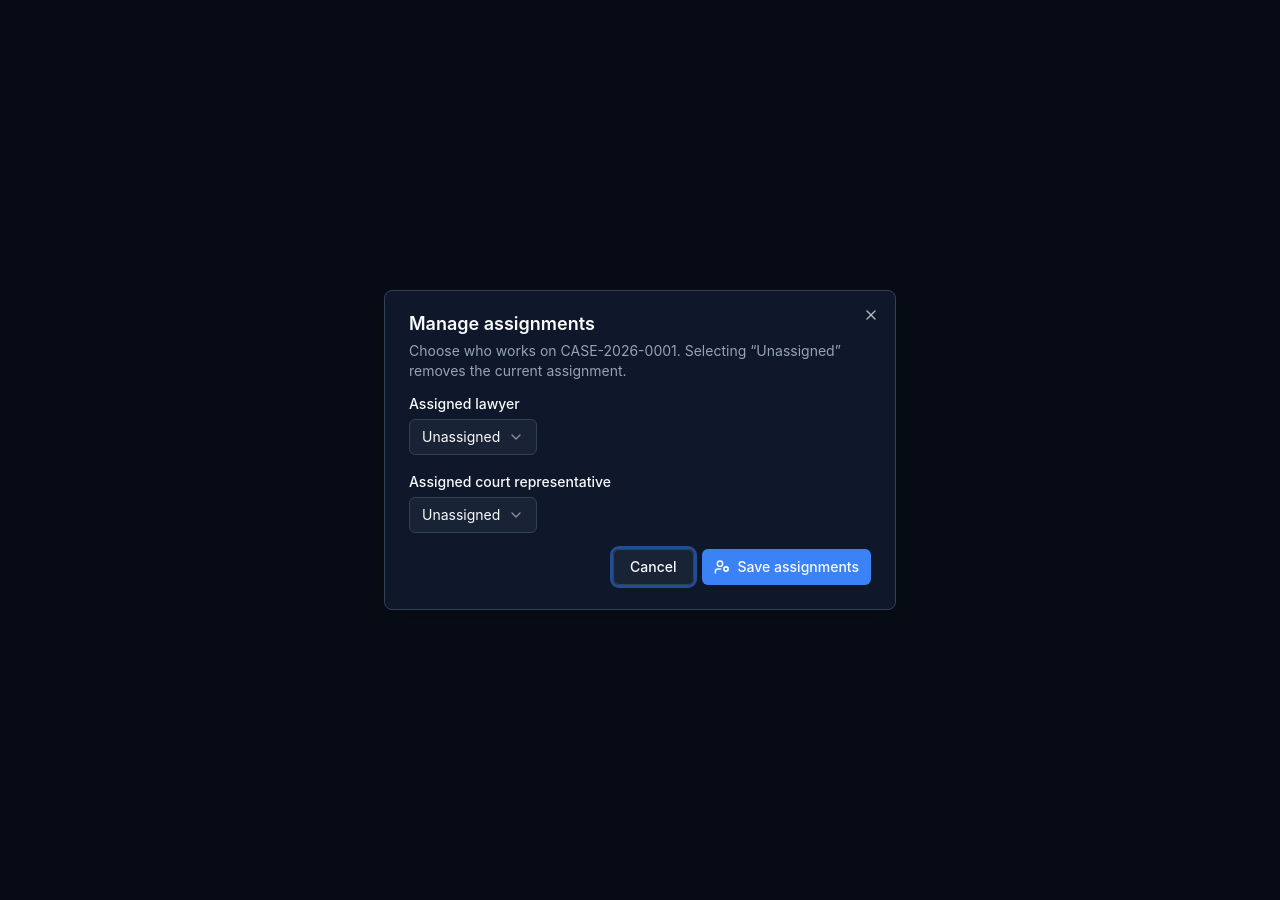
Test: AssignCaseDialog › surfaces a rejected assignment
The width and height of the screenshot is (1280, 900).
Step 1. Click the dropdown named "Assigned lawyer" → click(473, 437), box [409,419,537,455]
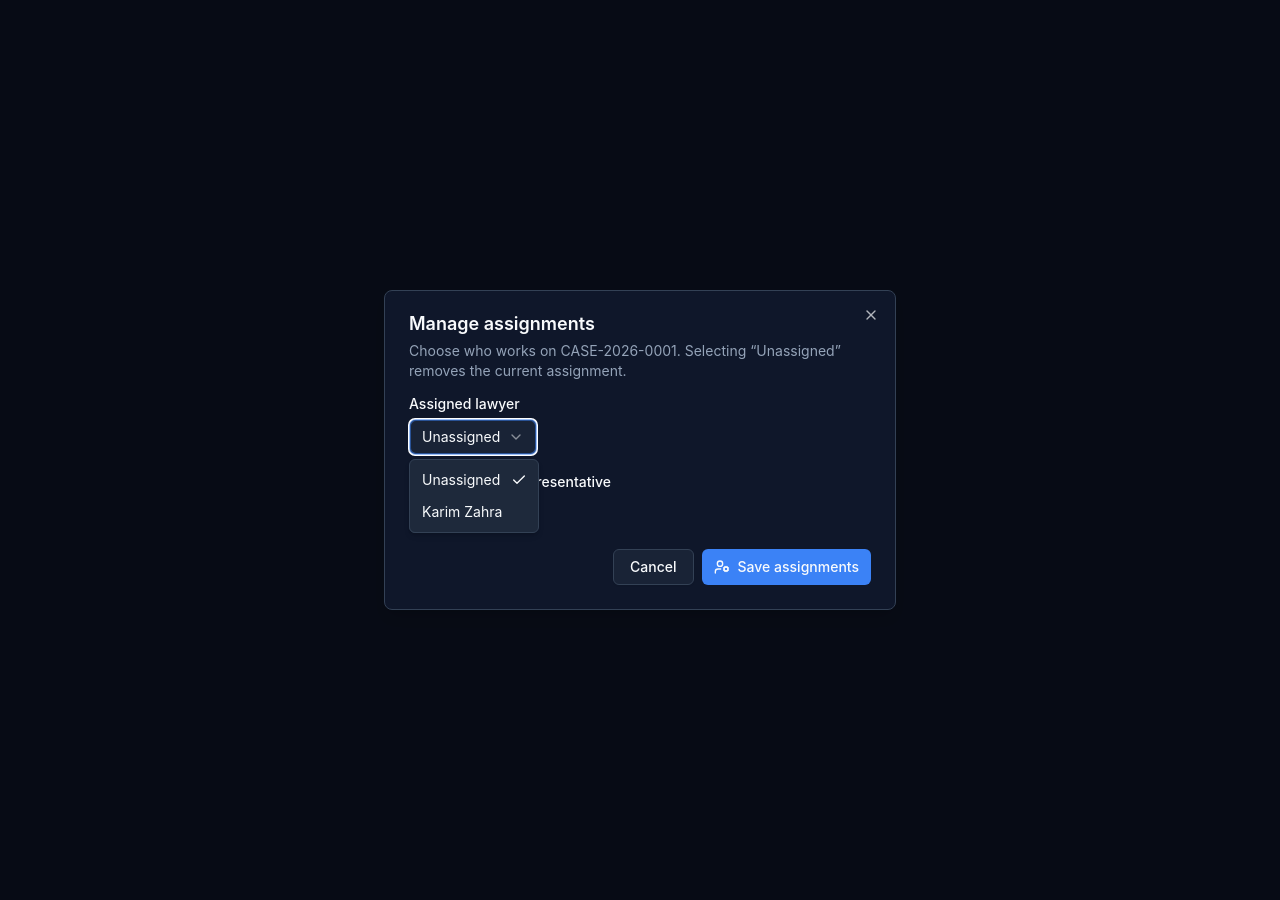
Step 2. Click the option "Karim Zahra" → click(462, 512), box [422,503,502,520]
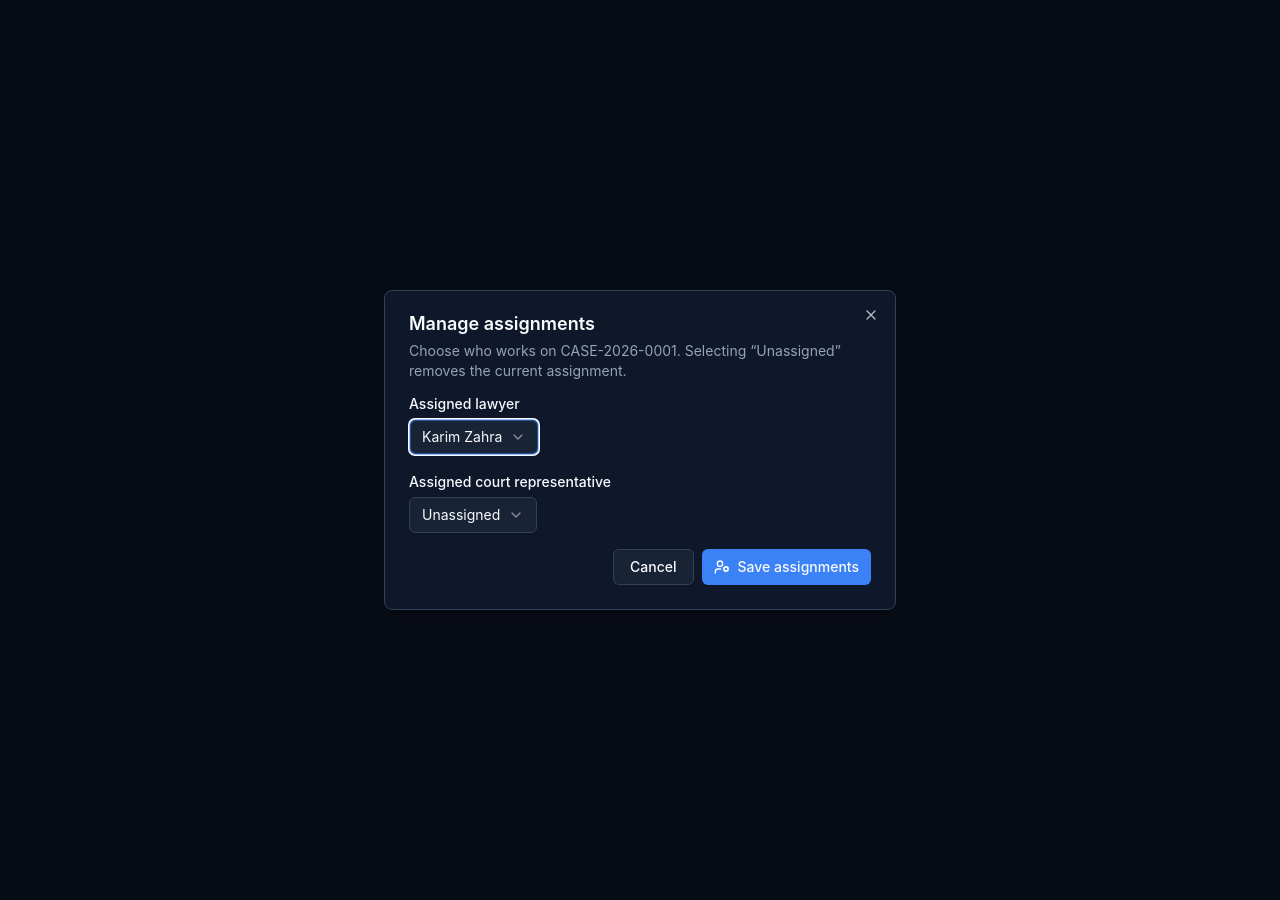
Step 3. Click the button "Save assignments" → click(786, 567), box [702,549,871,585]
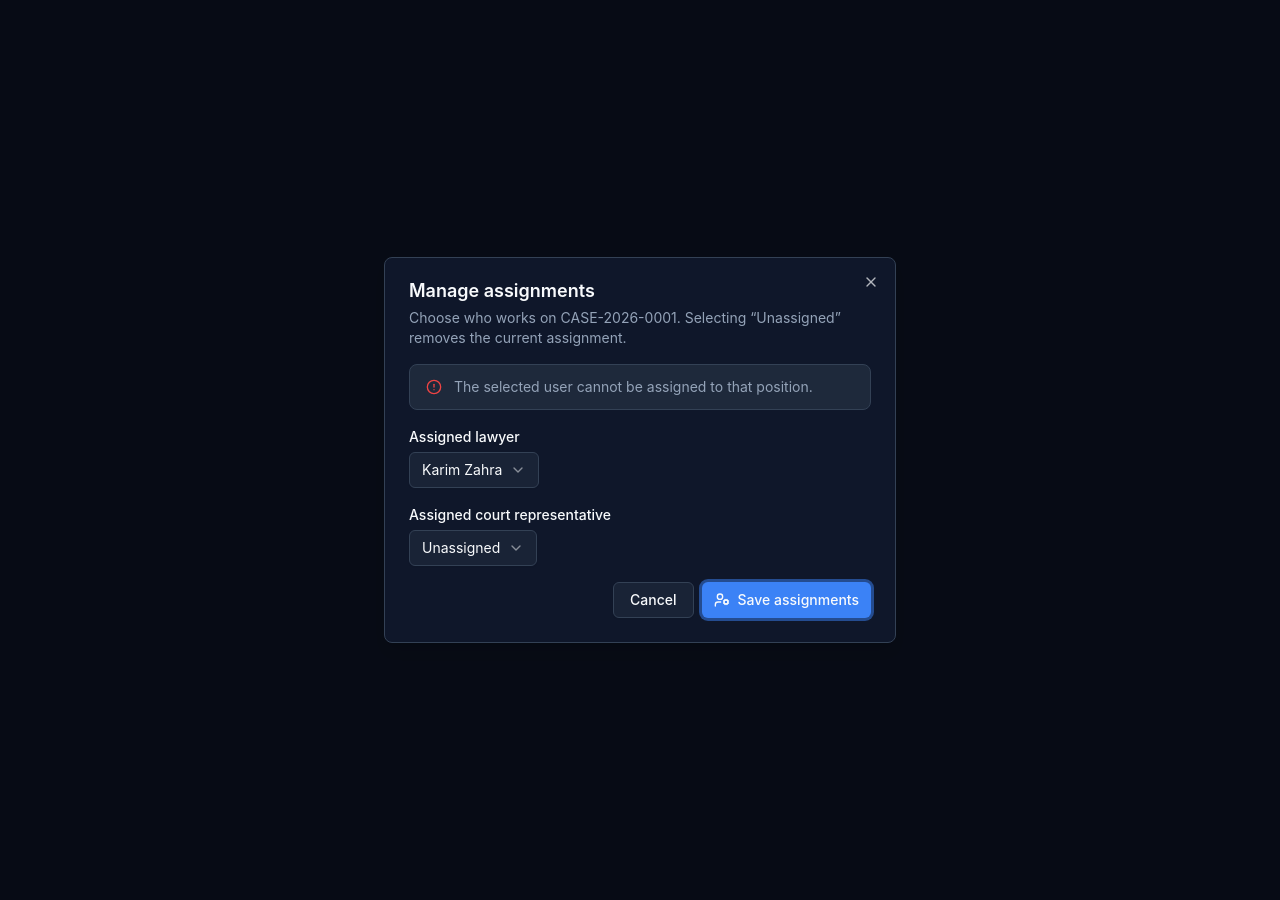
Check: the text "The selected user cannot be assigned to that position." is shown, box [454,377,854,397]
